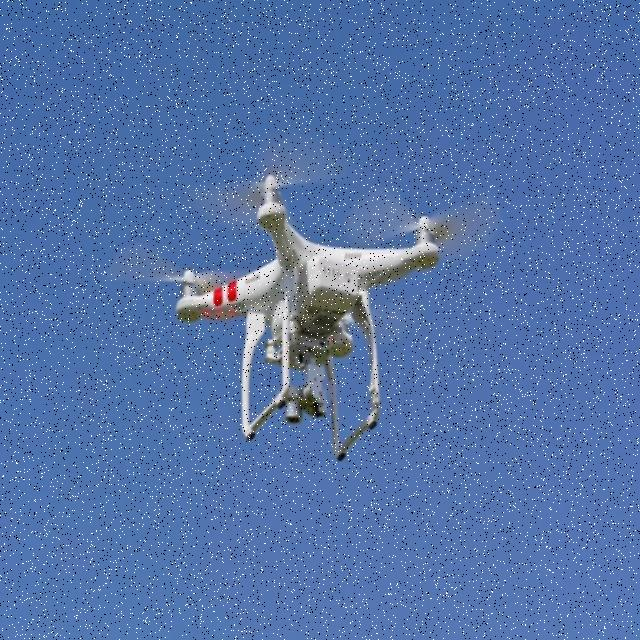UAV: (174, 170, 442, 465)
